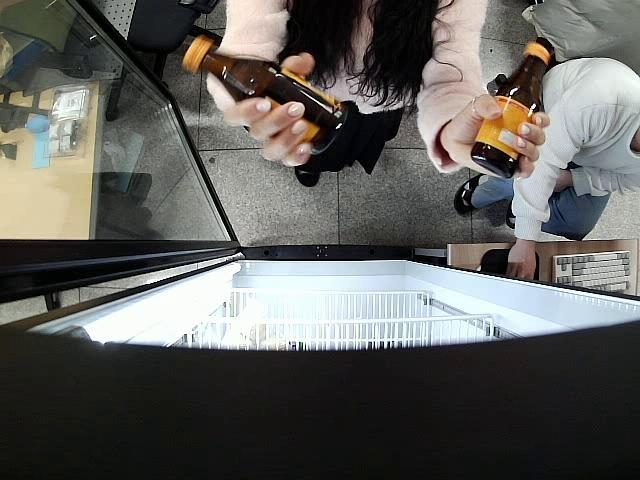17_vita500: (182, 36, 348, 159), (472, 40, 552, 178)
